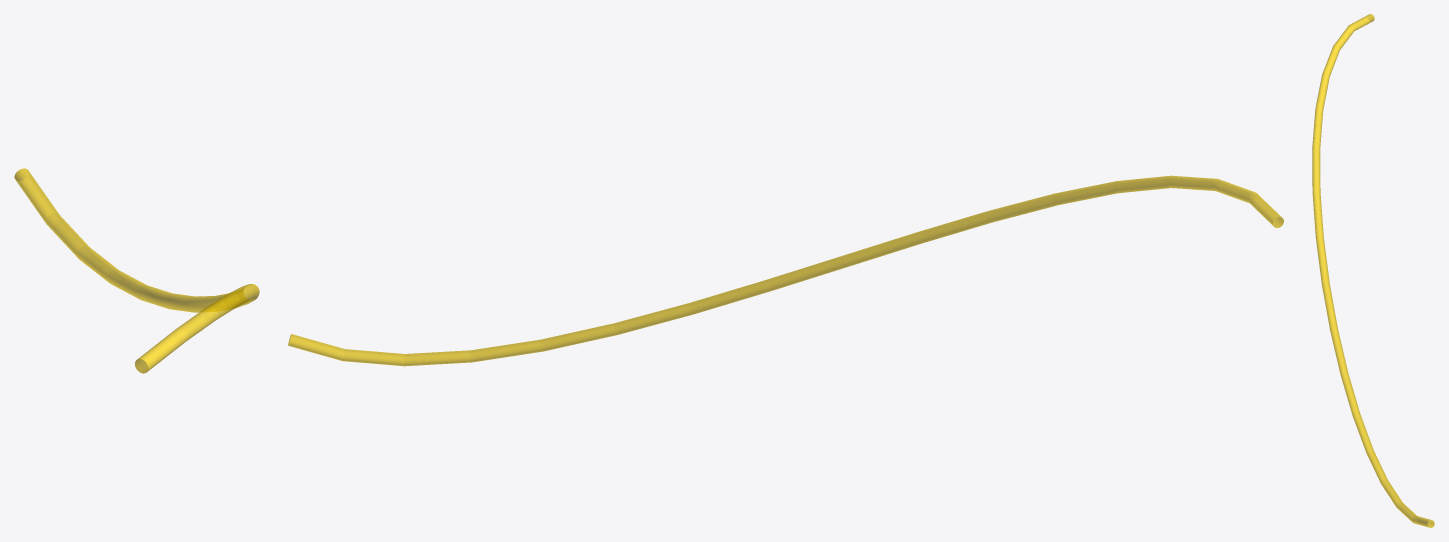
The model's file is Event_84804159_track_90.fbx.
3 renders of one model, left to right at view 1: azimuth 90°, elevation 25°; view 2: azimuth 150°, elevation 25°; view 3: azimuth 270°, elevation 25°, orthographic. The views are drawn at different scales.
Visible parts, largest first — view 1: Model; view 2: Model; view 3: Model.
Part boxes in pixels (left/top/right/bottom): Model: left=14, top=168, right=259, bottom=373; Model: left=288, top=175, right=1283, bottom=366; Model: left=1312, top=14, right=1434, bottom=527.
Size of the model in its own units: 3.55 by 1.23 by 0.608.
